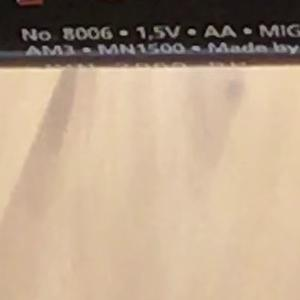keyword: (127, 17, 189, 48)
